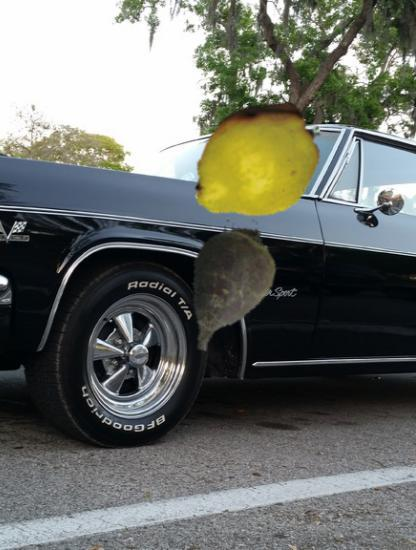Beetroot: (158, 214, 302, 358)
Quince: (187, 93, 328, 234)
